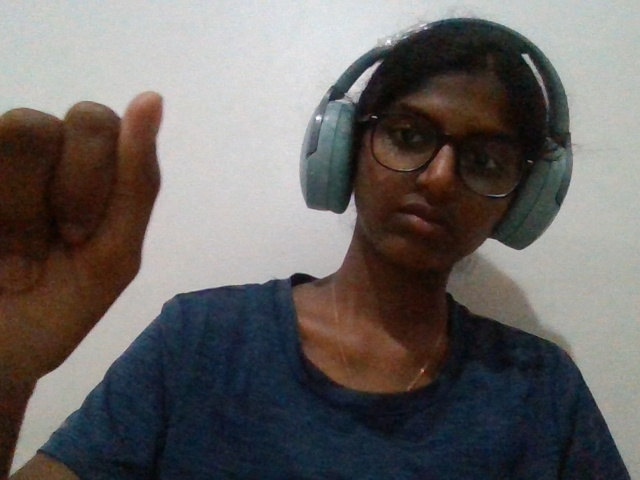A: (1, 68, 162, 457)
